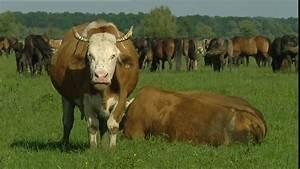cow: (47, 19, 140, 151), (116, 85, 267, 146)
